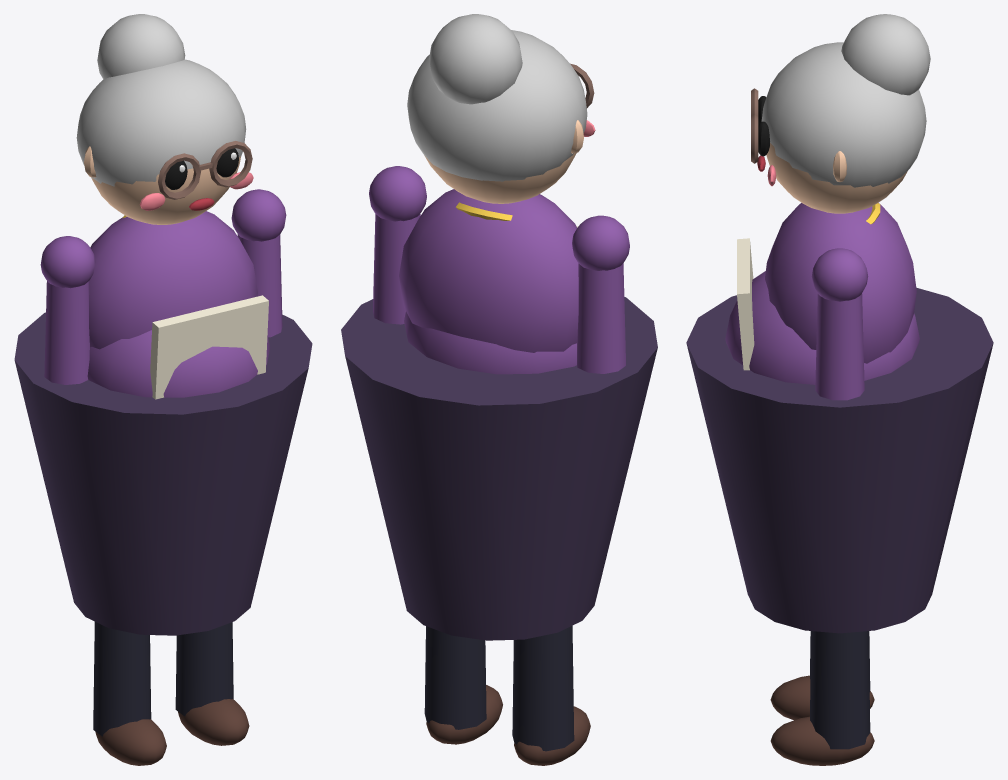
File: homes_bubbe.glb
3 views of the same model, side by side, from view 1: azimuth 30°, elevation 25°; view 2: azimuth 150°, elevation 25°; view 3: azimuth 270°, elevation 25° (orthographic). The views are drawn at different scales.
Parts seen in each view (by area): view 1: Body, Leg_R, Leg_L, Arm_R, Arm_L; view 2: Body, Leg_R, Arm_R, Leg_L, Arm_L; view 3: Body, Leg_L, Arm_L, Leg_R.
Boxes of the visible parts, x1=… form: Body: x1=14, y1=14, x2=312, y2=635; Leg_R: x1=93, y1=622, x2=166, y2=765; Leg_L: x1=175, y1=622, x2=249, y2=745; Arm_R: x1=40, y1=236, x2=95, y2=384; Arm_L: x1=231, y1=189, x2=286, y2=337; Body: x1=341, y1=14, x2=657, y2=640; Leg_R: x1=512, y1=625, x2=590, y2=765; Arm_R: x1=572, y1=215, x2=629, y2=373; Leg_L: x1=424, y1=626, x2=502, y2=744; Arm_L: x1=369, y1=166, x2=426, y2=324; Body: x1=686, y1=14, x2=993, y2=633; Leg_L: x1=770, y1=631, x2=874, y2=765; Arm_L: x1=811, y1=248, x2=868, y2=400; Leg_R: x1=770, y1=631, x2=874, y2=720.
Bounding box in the file's own units: 0.6556 × 1.7 × 0.6556.
